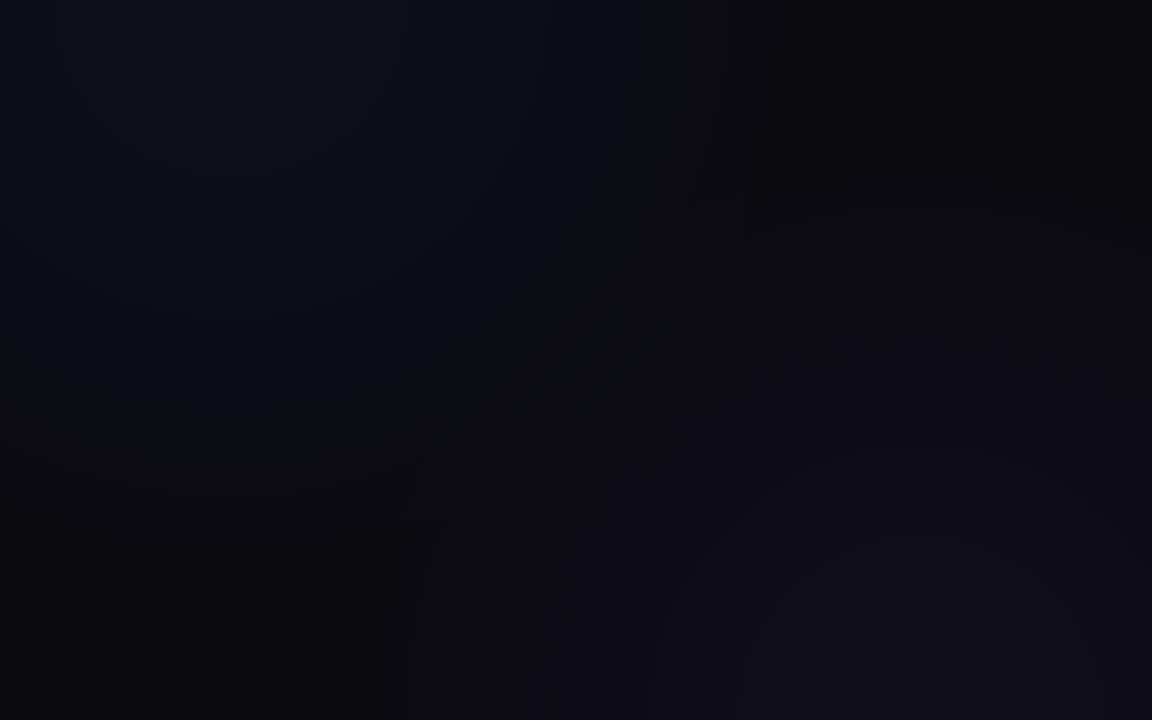
Test: CommandPalette › shows "Compare with…" label when on /sessions/compare?a={uuid} and clicking opens the picker Sheet
Type keys "{Meta>}k{/Meta}"
(page scrolled)
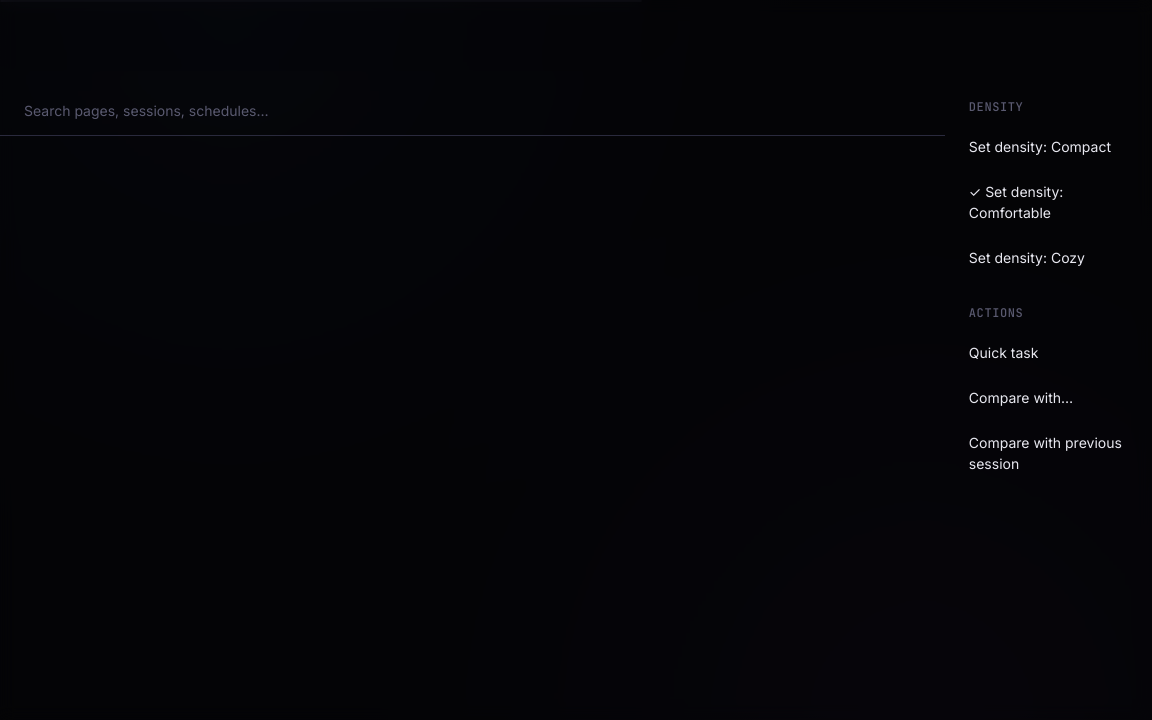
Expected: the option "Compare with…" is shown
Click the option "Compare with…" at (1021,398), box 969,389 -> 1073,406
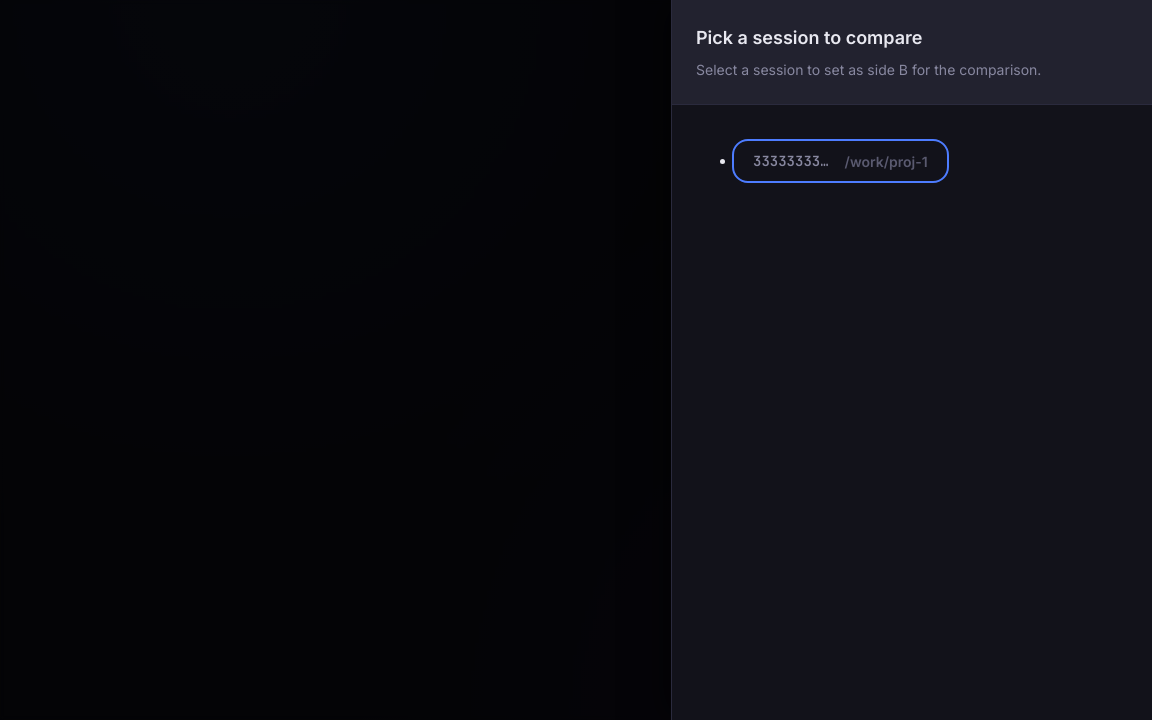
Expected: the heading "Pick a session to compare" is shown, 696,27 -> 922,48
